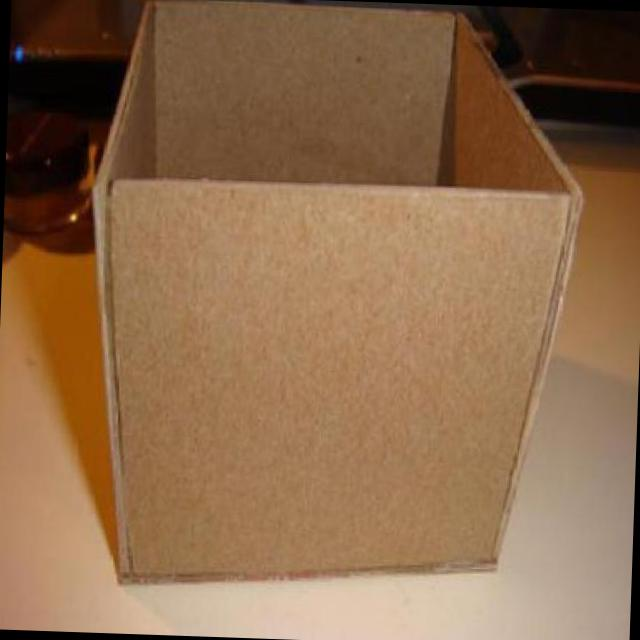Kertas: (93, 0, 581, 582)
